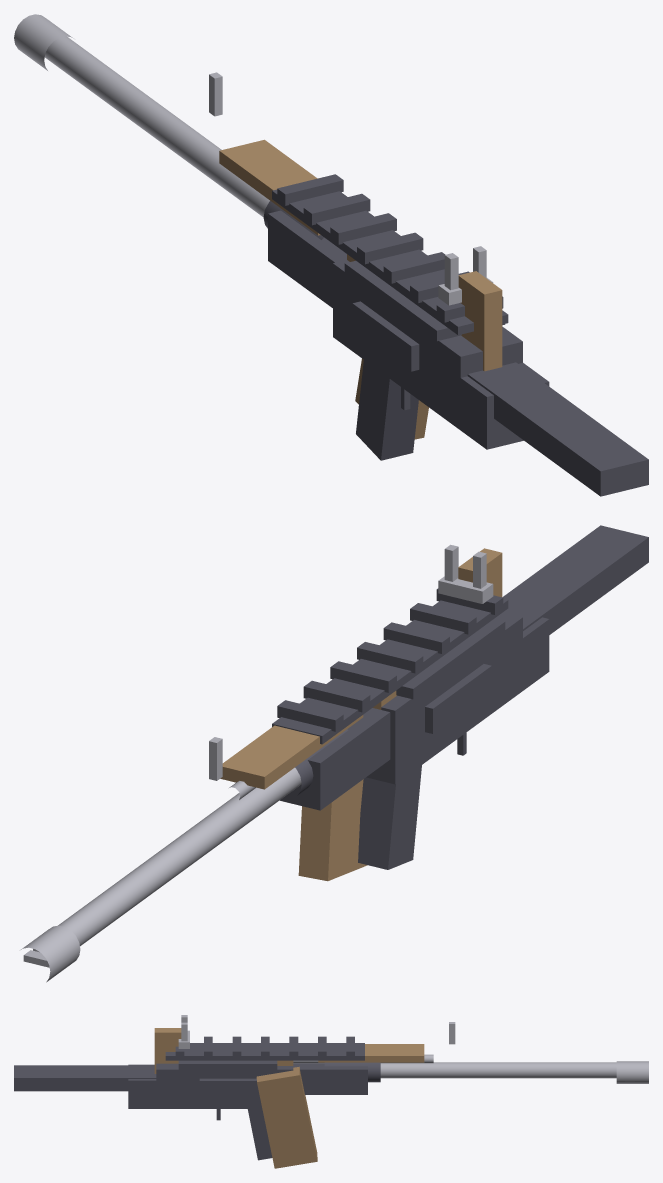
The picture shows the model from 3 angles, top to bottom: view 1: azimuth 30°, elevation 25°; view 2: azimuth 150°, elevation 25°; view 3: azimuth 270°, elevation 25°; orthographic projection. The views are drawn at different scales.
Parts seen in each view (by area): view 1: ak47_body, ak47_metal, ak47_wood; view 2: ak47_body, ak47_metal, ak47_wood; view 3: ak47_body, ak47_wood, ak47_metal.
Boxes of the visible parts, left/top/right/bottom form: ak47_body: left=263, top=174, right=648, bottom=496; ak47_metal: left=14, top=14, right=493, bottom=305; ak47_wood: left=219, top=139, right=502, bottom=439; ak47_body: left=272, top=525, right=648, bottom=869; ak47_metal: left=21, top=544, right=493, bottom=982; ak47_wood: left=220, top=548, right=502, bottom=881; ak47_body: left=14, top=1036, right=380, bottom=1160; ak47_wood: left=154, top=1028, right=424, bottom=1168; ak47_metal: left=178, top=1015, right=648, bottom=1083.
Bounding box in the file's own units: 0.0905 × 0.2441 × 1.02.
